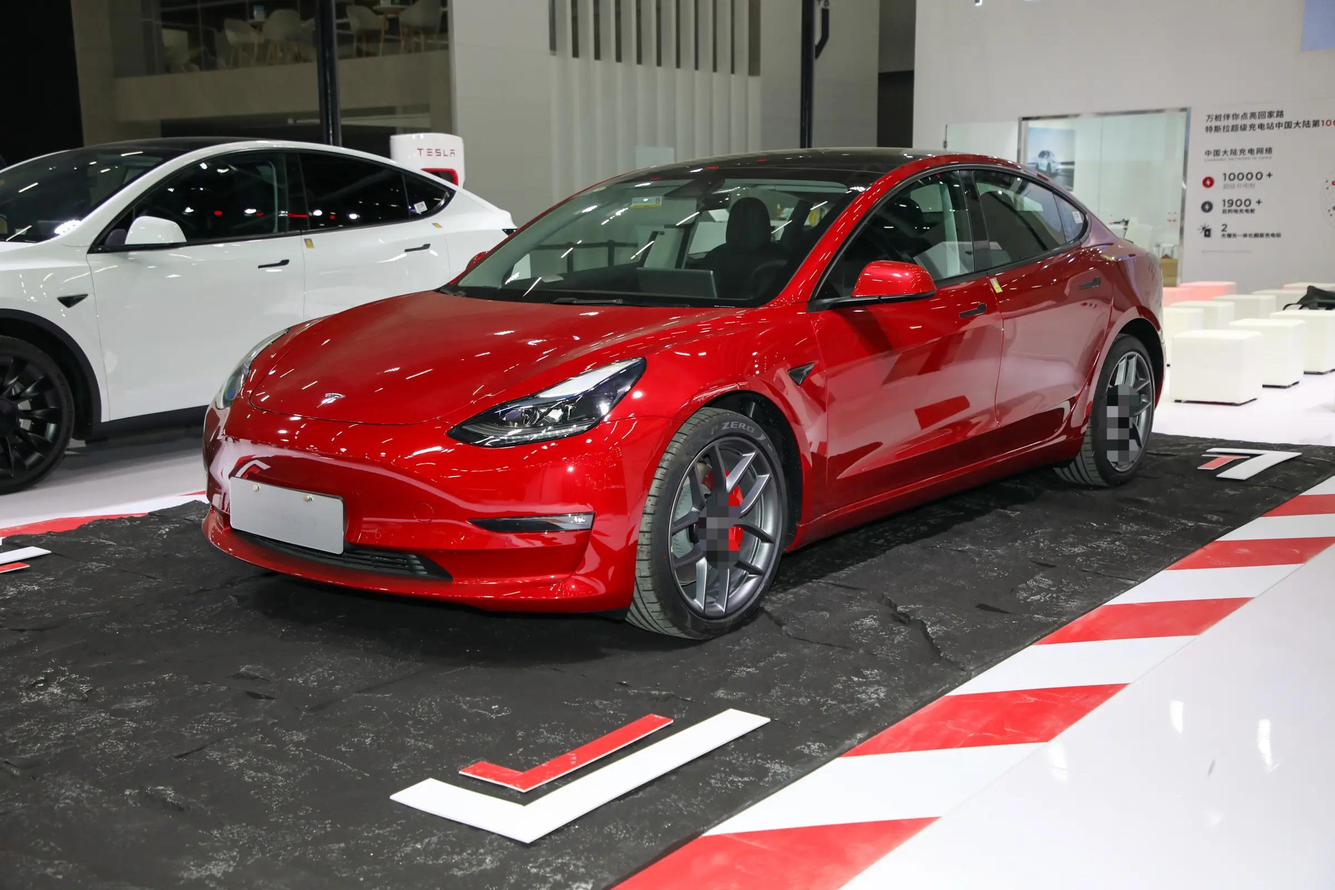Tesla: (316, 392, 345, 409)
